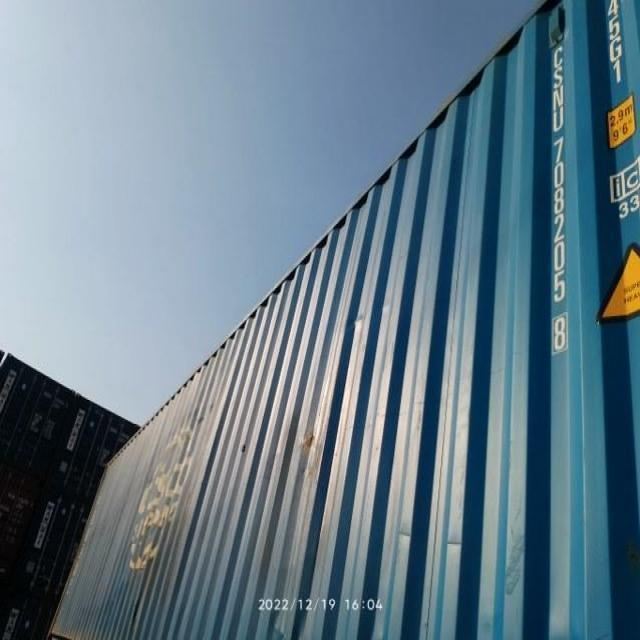ISO: (599, 0, 629, 85)
container_number: (529, 38, 572, 360)
